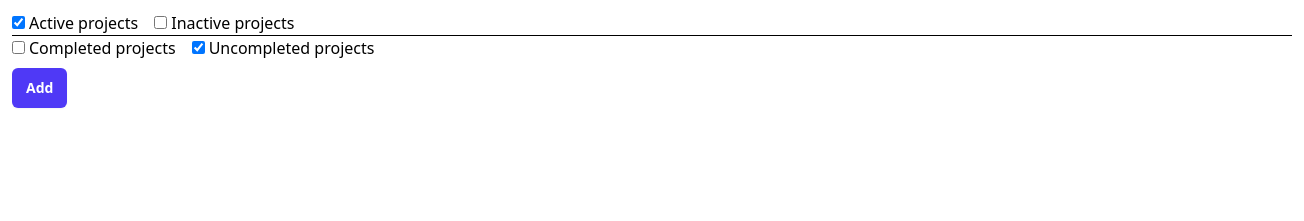
Test case: ProjectView › get both completed and uncompleted projects
Click the checkbox labelled "Completed projects". click: (18, 48)
box: [12,41,25,54]
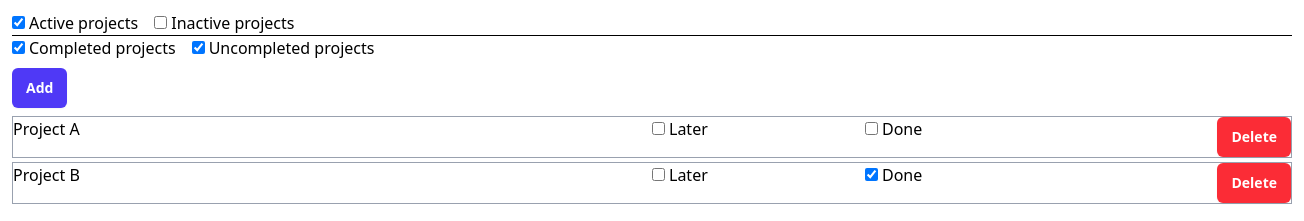
Now the checkbox labelled "Completed projects" is checked, box [12,41,25,54]
Now the number of elements with test id "project" is 2, box [12,116,1292,158]; [12,162,1292,204]
Now the text with test id "name" reads "Project A", box [13,118,80,140]
